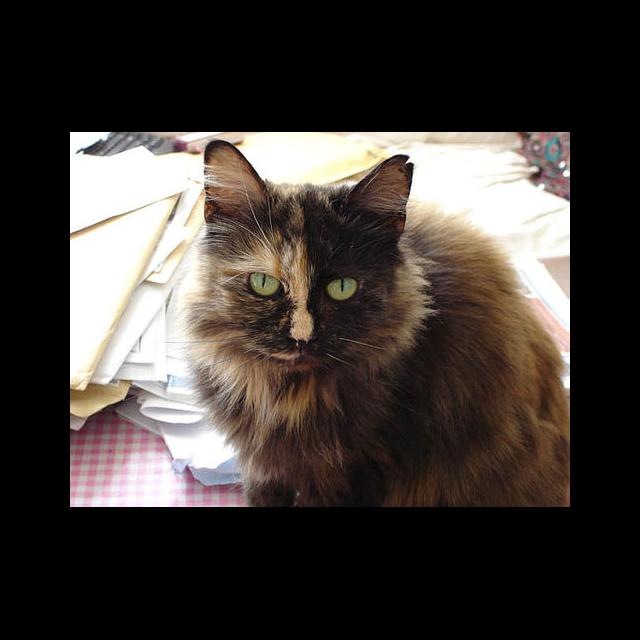animals: (207, 140, 406, 348)
